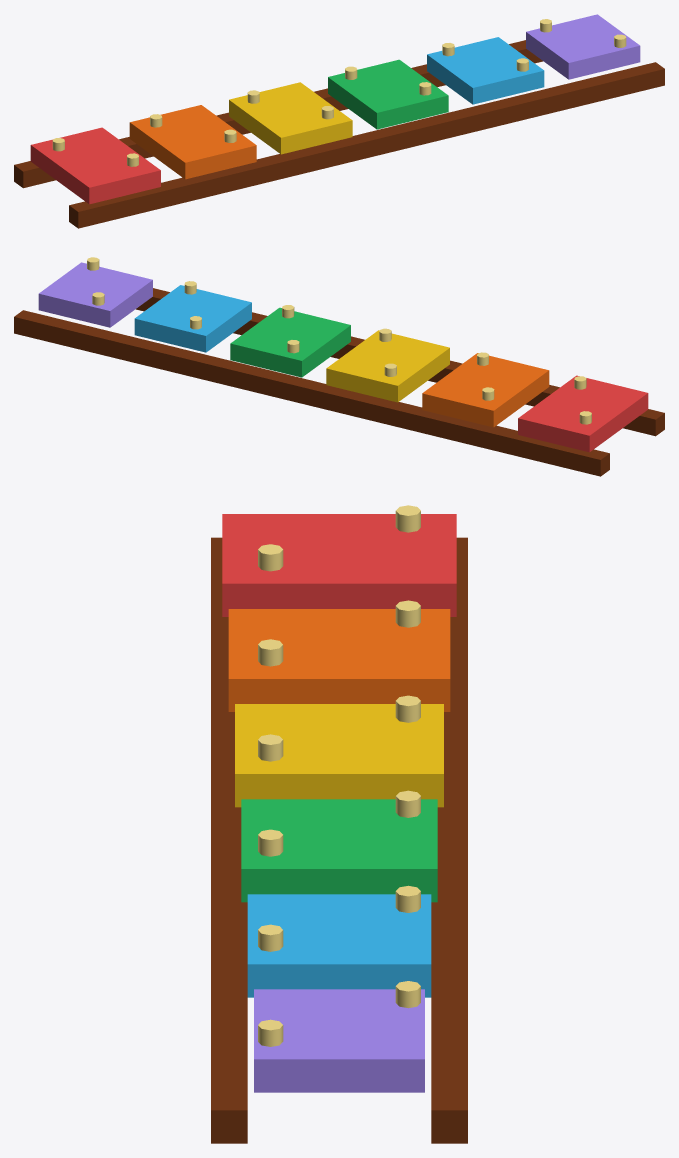
Rendered from toy_barn_xylophone_bridge.glb.
3 renders of one model, top to bottom at view 1: azimuth 30°, elevation 25°; view 2: azimuth 150°, elevation 25°; view 3: azimuth 270°, elevation 25°, orthographic. The views are drawn at different scales.
Visible parts, largest first — view 1: solid_2, solid_3, solid_6, solid_9, solid_12, solid_15, solid_18, solid_1; view 2: solid_1, solid_3, solid_6, solid_9, solid_12, solid_15, solid_18, solid_2; view 3: solid_3, solid_6, solid_9, solid_12, solid_1, solid_2, solid_18, solid_15.
Boxes of the visible parts, box(x1,y1,x2,y2) form: solid_2: box(69, 62, 664, 228); solid_3: box(30, 127, 160, 204); solid_6: box(129, 105, 256, 179); solid_9: box(229, 82, 352, 154); solid_12: box(328, 59, 448, 129); solid_15: box(427, 37, 544, 104); solid_18: box(526, 14, 640, 79); solid_1: box(14, 40, 542, 188); solid_1: box(14, 310, 609, 476); solid_3: box(518, 375, 648, 452); solid_6: box(422, 353, 549, 427); solid_9: box(326, 330, 449, 402); solid_12: box(230, 307, 350, 377); solid_15: box(134, 285, 251, 352); solid_18: box(38, 262, 152, 327); solid_2: box(136, 288, 664, 436); solid_3: box(222, 514, 456, 616); solid_6: box(228, 609, 450, 711); solid_9: box(235, 704, 443, 807); solid_12: box(241, 799, 437, 902); solid_1: box(431, 537, 467, 1143); solid_2: box(211, 537, 247, 1143); solid_18: box(254, 989, 424, 1092); solid_15: box(247, 894, 431, 997).
Bounding box in the file's own units: 5.9 × 0.43 × 1.12.
